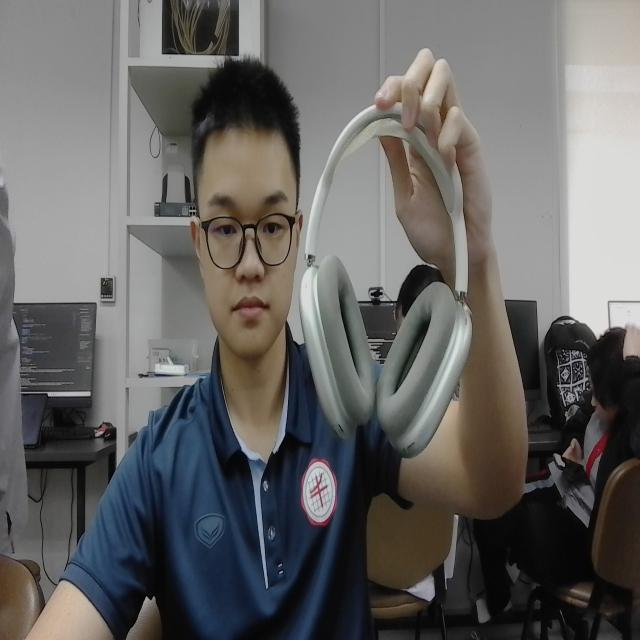airpods max: (290, 85, 480, 459)
